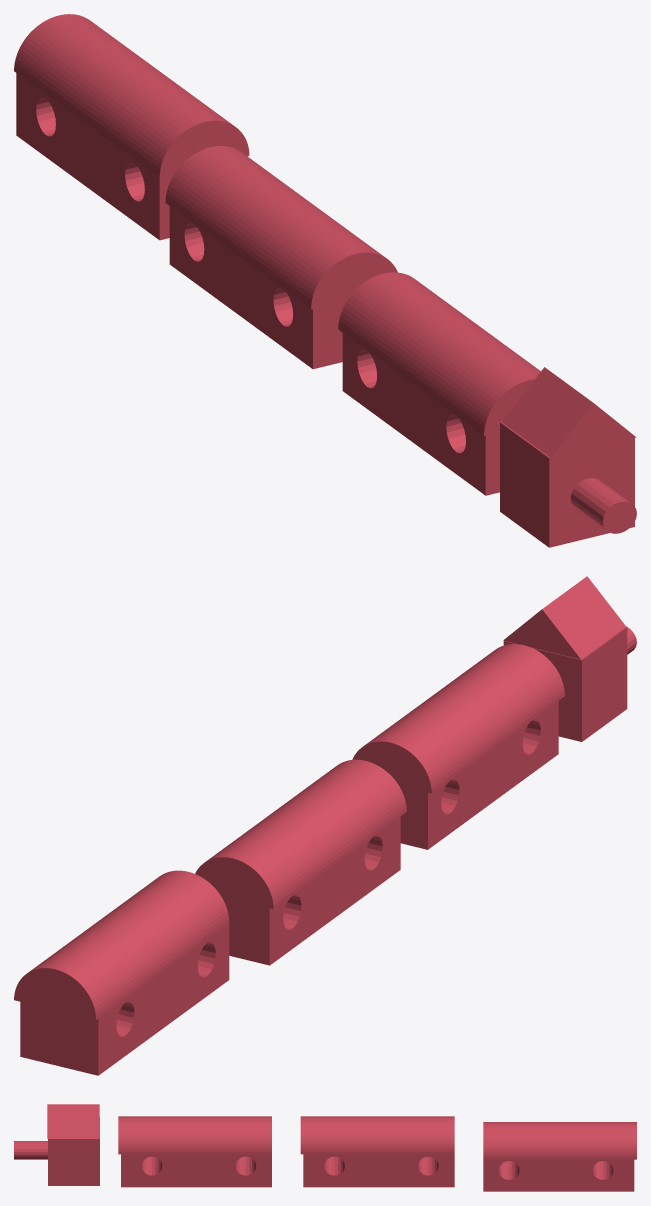
Rendered from Epic Luulia.glb.
3 renders of one model, top to bottom at view 1: azimuth 30°, elevation 25°; view 2: azimuth 150°, elevation 25°; view 3: azimuth 270°, elevation 25°, orthographic. The views are drawn at different scales.
Parts seen in each view (by area): view 1: Mesh_Mesh_head_geo.001_lambert2SG.001; view 2: Mesh_Mesh_head_geo.001_lambert2SG.001; view 3: Mesh_Mesh_head_geo.001_lambert2SG.001.
Boxes of the visible parts, box(x1,y1,x2,y2) form: Mesh_Mesh_head_geo.001_lambert2SG.001: box(14, 14, 636, 547); Mesh_Mesh_head_geo.001_lambert2SG.001: box(14, 576, 636, 1075); Mesh_Mesh_head_geo.001_lambert2SG.001: box(14, 1104, 636, 1191).
Size of the model in its own units: 26.32 by 30 by 239.
